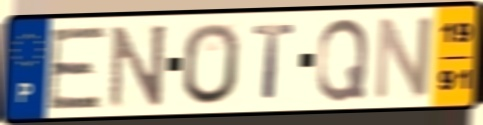E: (45, 23, 110, 112)
N: (371, 13, 436, 104), (107, 21, 170, 111)
O: (181, 20, 243, 107)
Q: (314, 15, 372, 104)
T: (250, 21, 298, 102)
